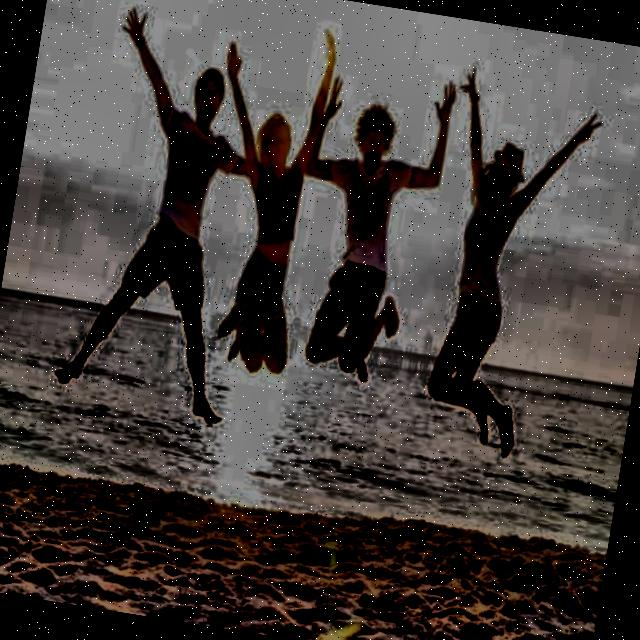happy: (342, 100, 401, 187), (178, 61, 239, 141), (248, 106, 300, 191), (476, 141, 525, 218)
